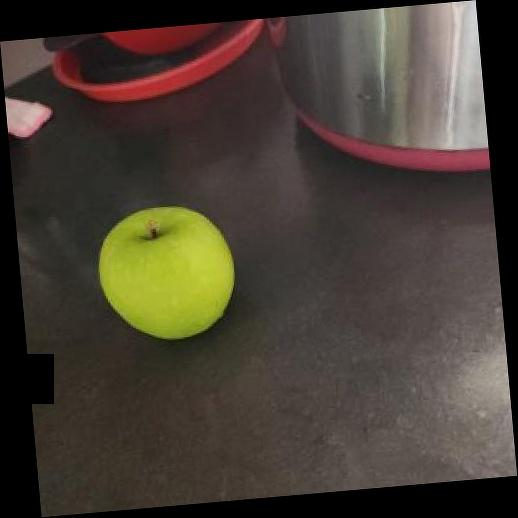green apple: (97, 205, 237, 341)
